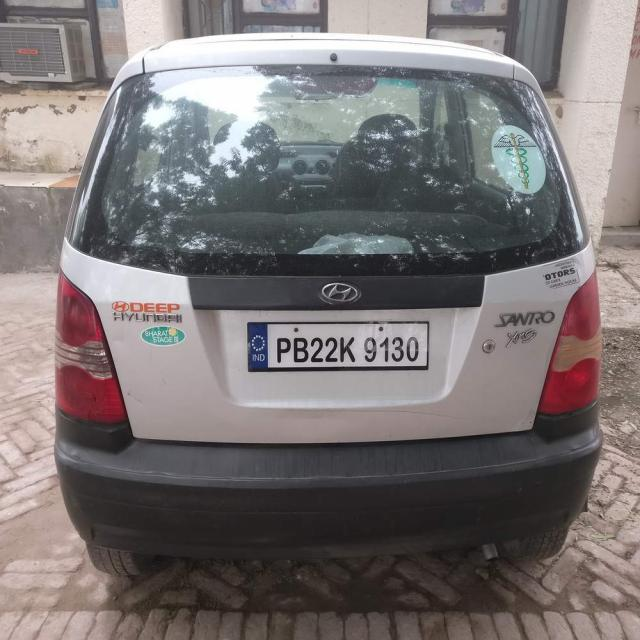Number-Plate: (247, 320, 426, 367)
